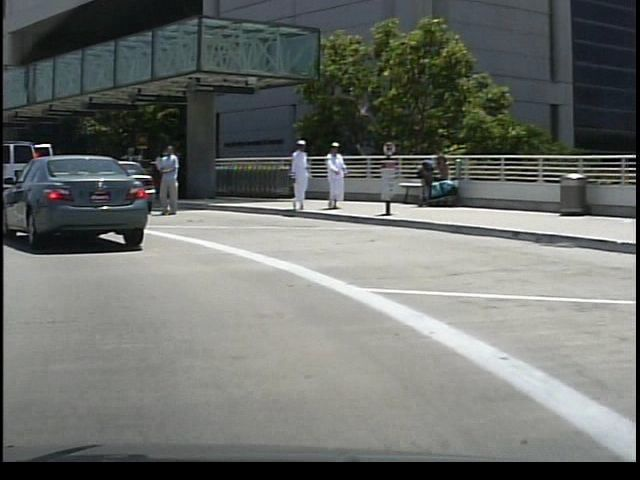person: (154, 142, 184, 221), (318, 138, 347, 212), (283, 135, 310, 212)
